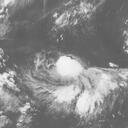cyclone: (44, 54, 102, 113)
